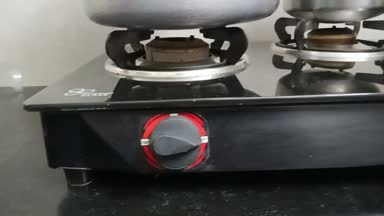flame_gas_off: (102, 25, 252, 169)
